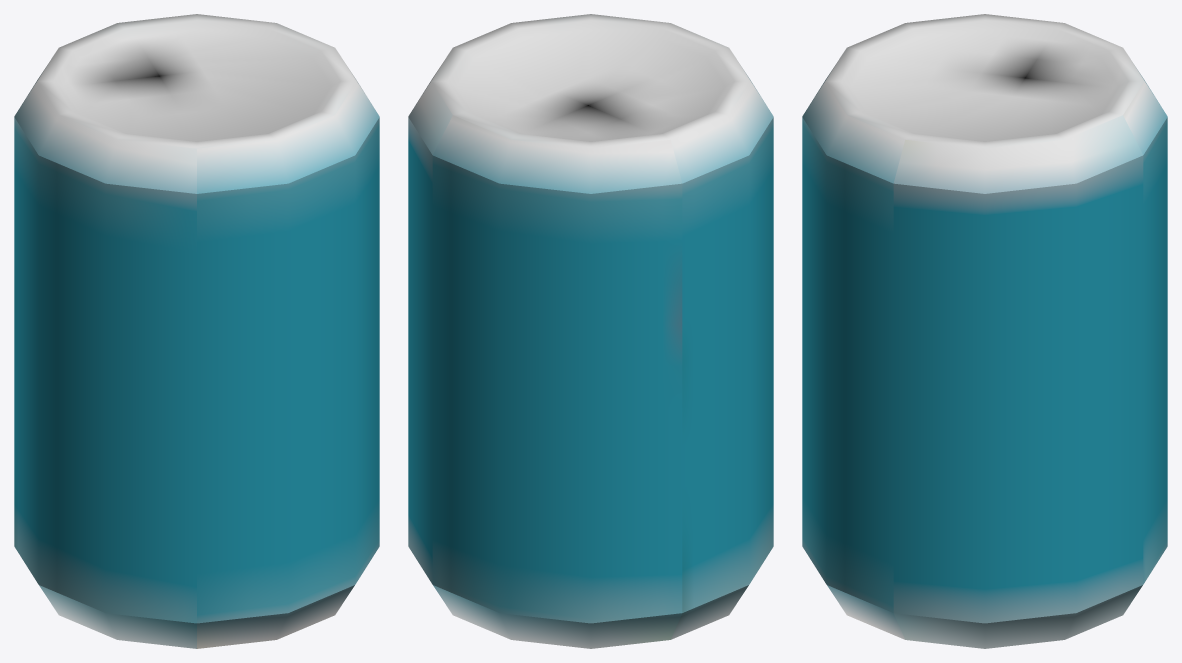
The model's file is Can2.fbx.
The picture shows the model from 3 angles, left to right: view 1: azimuth 30°, elevation 25°; view 2: azimuth 150°, elevation 25°; view 3: azimuth 270°, elevation 25°; orthographic projection.
Visible parts, largest first — view 1: Can2; view 2: Can2; view 3: Can2.
Part boxes in pixels (left/top/right/bottom): Can2: left=14, top=14, right=379, bottom=648; Can2: left=408, top=14, right=773, bottom=648; Can2: left=802, top=14, right=1167, bottom=648.
Size of the model in its own units: 5.72 by 8.63 by 5.72.
